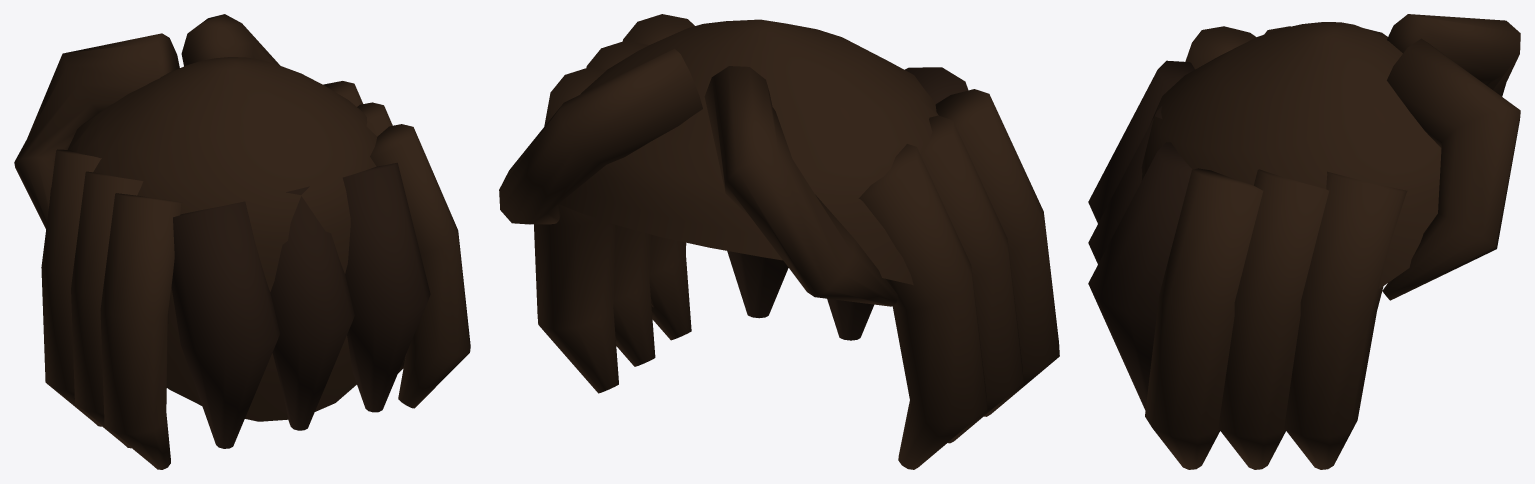
The model's file is Hair2.glb.
3 views of the same model, side by side, from view 1: azimuth 30°, elevation 25°; view 2: azimuth 150°, elevation 25°; view 3: azimuth 270°, elevation 25° (orthographic). The views are drawn at different scales.
Visible parts, largest first — view 1: Hair2; view 2: Hair2; view 3: Hair2.
Boxes of the visible parts, <box> form: Hair2: <box>14,14,470,469</box>; Hair2: <box>499,14,1059,469</box>; Hair2: <box>1088,14,1520,469</box>.
Bounding box in the file's own units: 0.2708 × 0.2431 × 0.2561.
